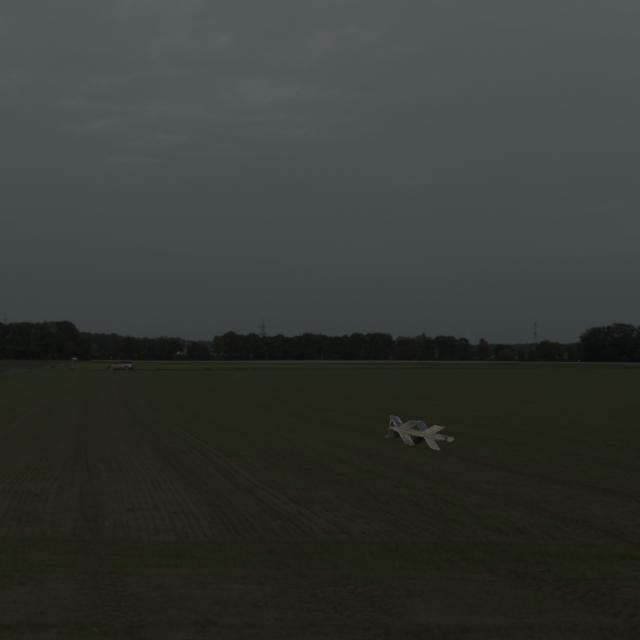Airaplan: (384, 415, 454, 450)
